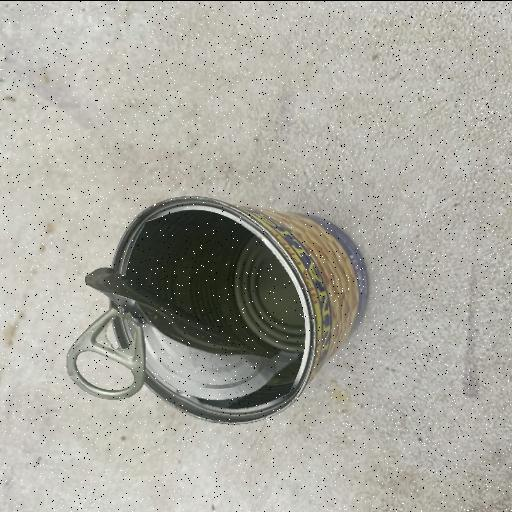Metal: (64, 192, 370, 426)
